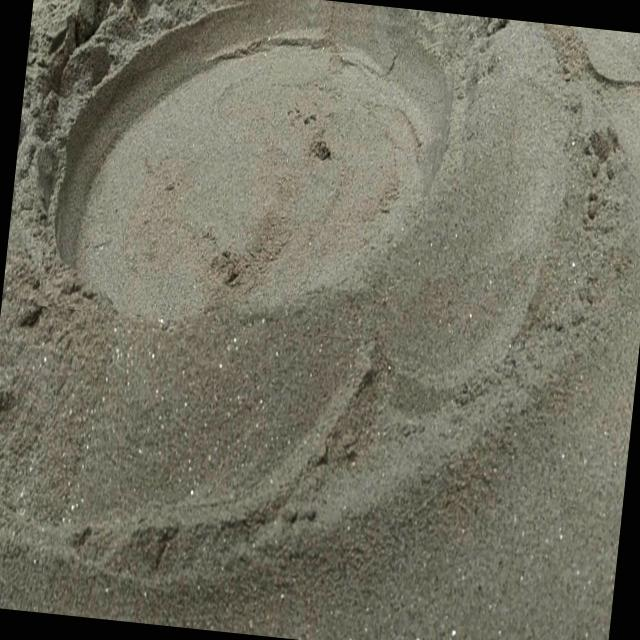C40: (46, 0, 449, 320)
